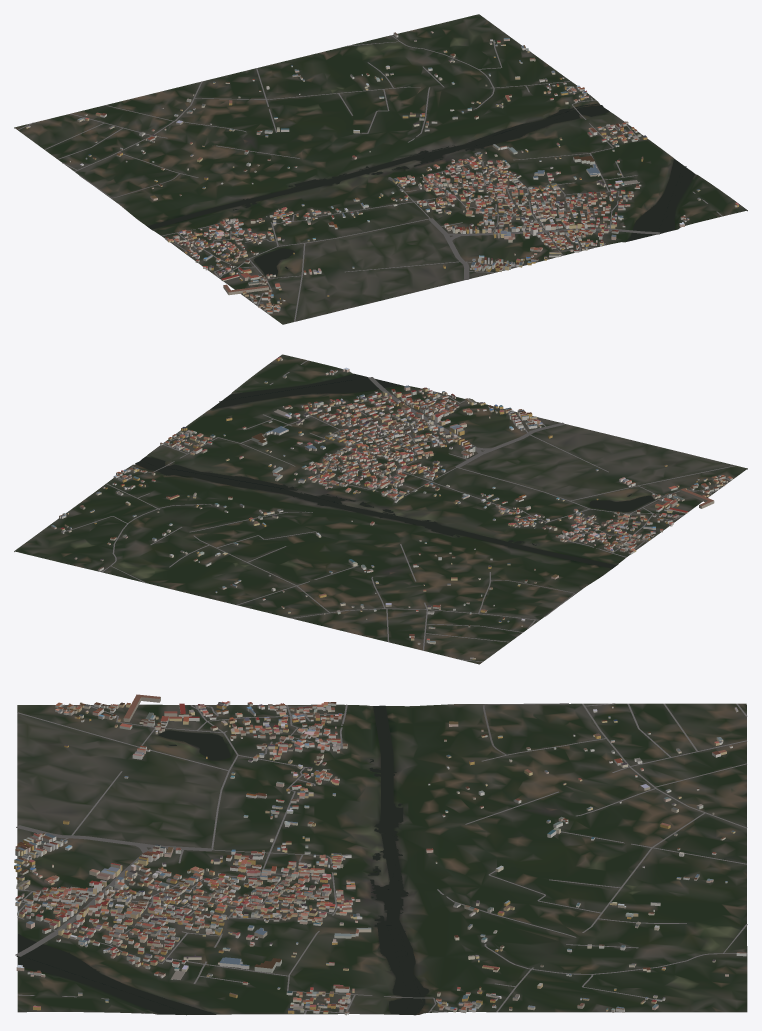
3 renders of one model, top to bottom at view 1: azimuth 30°, elevation 25°; view 2: azimuth 150°, elevation 25°; view 3: azimuth 270°, elevation 25°, orthographic. The views are drawn at different scales.
Visible parts, largest first — view 1: ground, buildings, water, roads; view 2: ground, buildings, water, roads; view 3: ground, buildings, water, roads.
Boxes of the visible parts, x1,y1,x2,y2 form: ground: (14,14,747,324); buildings: (25,31,738,313); water: (147,103,694,275); roads: (18,35,722,321); ground: (14,354,747,664); buildings: (51,357,732,659); water: (135,374,653,568); roads: (65,360,735,661); ground: (17,703,747,1014); buildings: (14,694,746,1015); water: (16,705,429,1015); roads: (15,703,747,1014).
Size of the model in its own units: 1437 by 24.24 by 1410.
